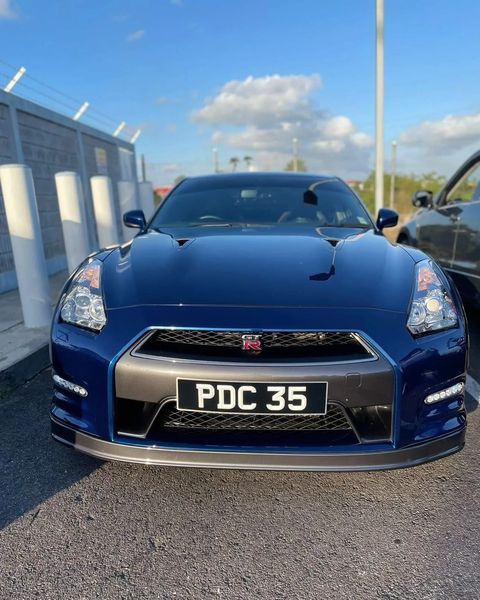License-Plate: (178, 379, 324, 408)
